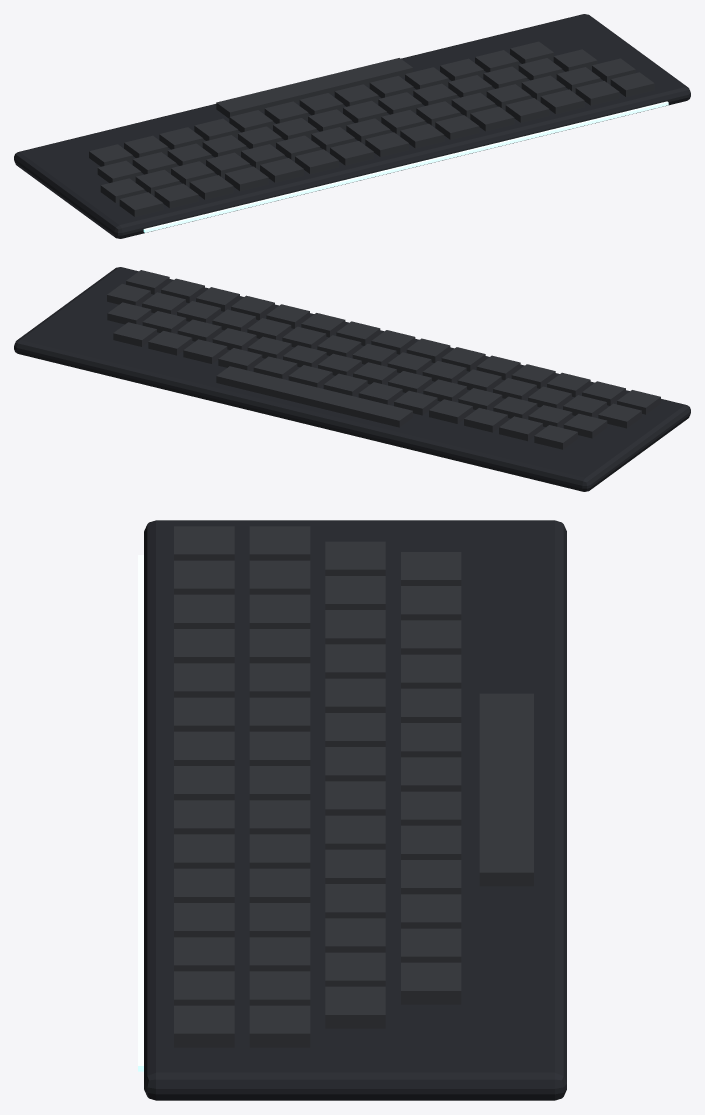
File: keyboard.gltf
3 renders of one model, top to bottom at view 1: azimuth 30°, elevation 25°; view 2: azimuth 150°, elevation 25°; view 3: azimuth 270°, elevation 25°, orthographic. The views are drawn at different scales.
Visible parts, largest first — view 1: keycaps, Cube, keyboard_glow; view 2: keycaps, Cube; view 3: keycaps, Cube, keyboard_glow.
Boxes of the visible parts, left/top/right/bottom form: keycaps: left=89, top=41, right=654, bottom=216; Cube: left=14, top=14, right=690, bottom=238; keyboard_glow: left=143, top=101, right=668, bottom=232; keycaps: left=107, top=270, right=660, bottom=449; Cube: left=14, top=267, right=690, bottom=491; keycaps: left=174, top=526, right=533, bottom=1047; Cube: left=144, top=520, right=566, bottom=1100; keyboard_glow: left=138, top=555, right=143, bottom=1071.
Bounding box in the file's own units: 0.44 × 0.015 × 0.142.
